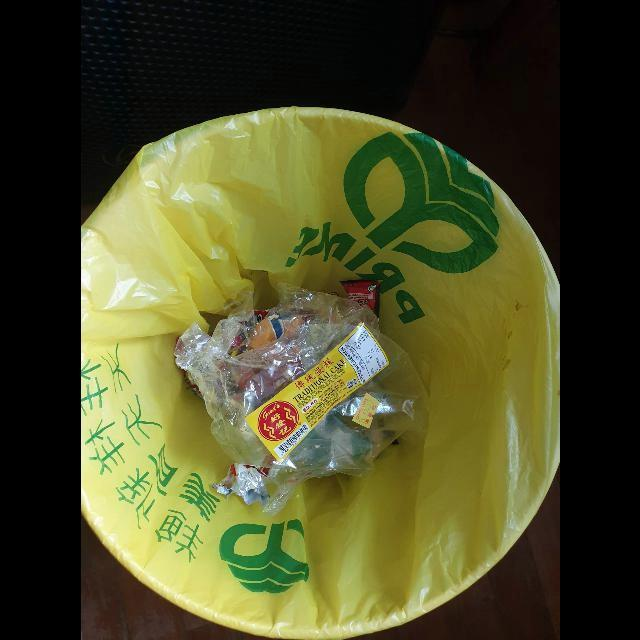food_wrapper: (338, 279, 381, 319)
plastic_bag: (171, 318, 431, 470), (227, 281, 378, 367)
